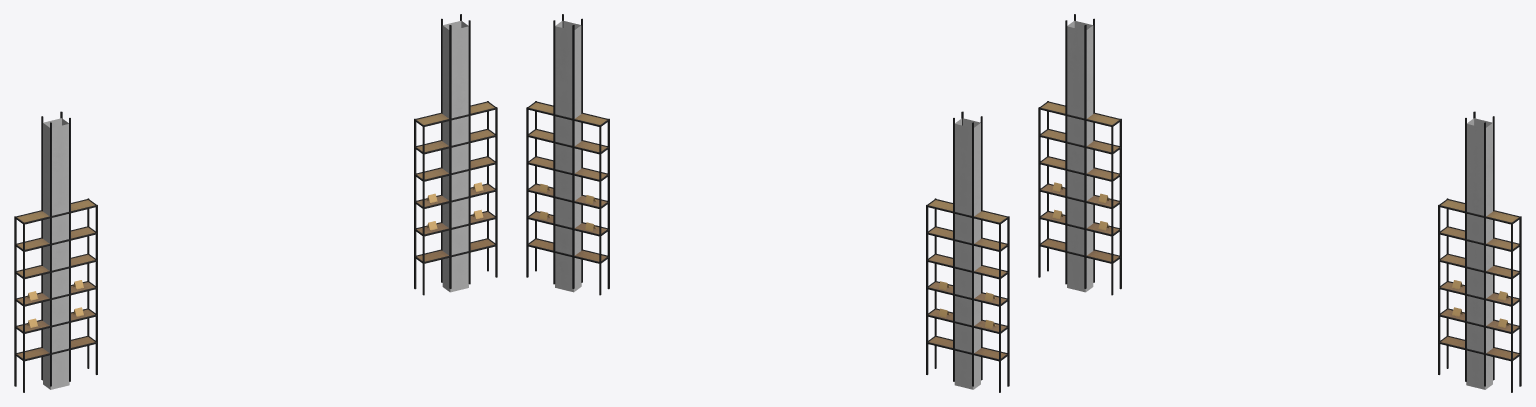
The model's file is CommunityRoomA_GameShelves.fbx.
The picture shows the model from 3 angles, left to right: view 1: azimuth 30°, elevation 25°; view 2: azimuth 150°, elevation 25°; view 3: azimuth 330°, elevation 25°; orthographic projection.
Visible parts, largest first — view 1: CommunityRoomA_GameShelves; view 2: CommunityRoomA_GameShelves; view 3: CommunityRoomA_GameShelves.
Part boxes in pixels (box(x1,y1,x2,y2)): CommunityRoomA_GameShelves: box(14, 14, 497, 392); CommunityRoomA_GameShelves: box(526, 14, 1009, 392); CommunityRoomA_GameShelves: box(1038, 14, 1521, 392).
Bounding box in the file's own units: 815 × 440 × 27.92.
